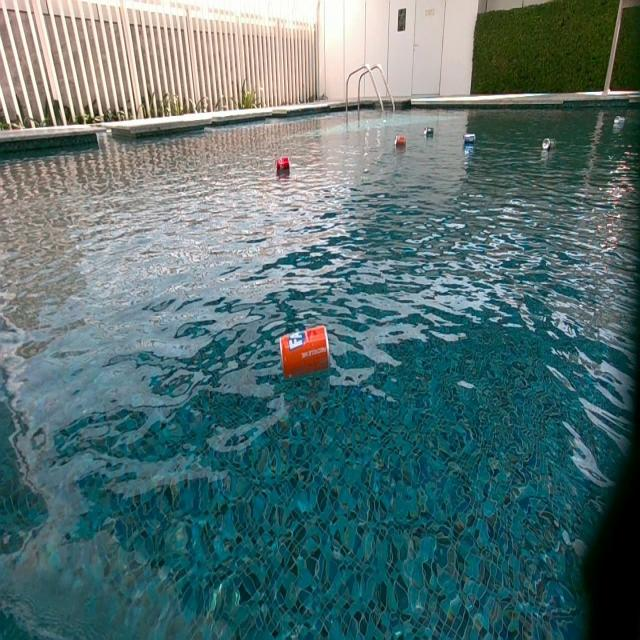Cans: (281, 325, 331, 380), (283, 325, 330, 355), (276, 160, 290, 174), (463, 134, 476, 147), (541, 138, 553, 152), (614, 115, 625, 129), (394, 136, 405, 149), (424, 128, 434, 140)
